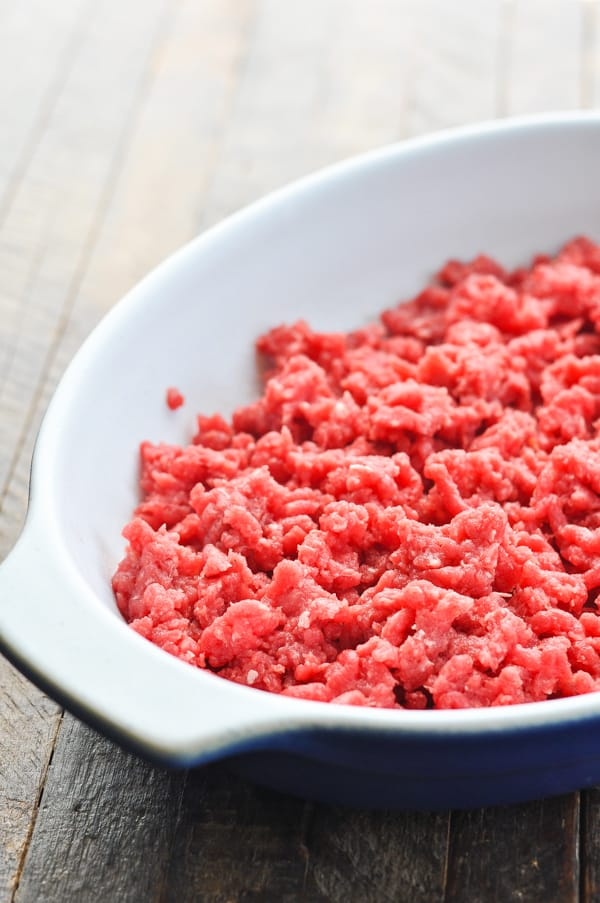ground_beef: (150, 323, 599, 684)
